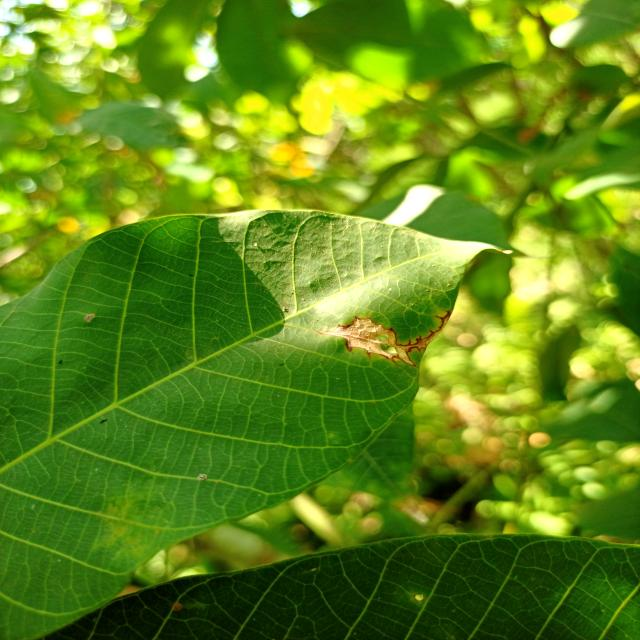Corynespora: (318, 310, 452, 367)
